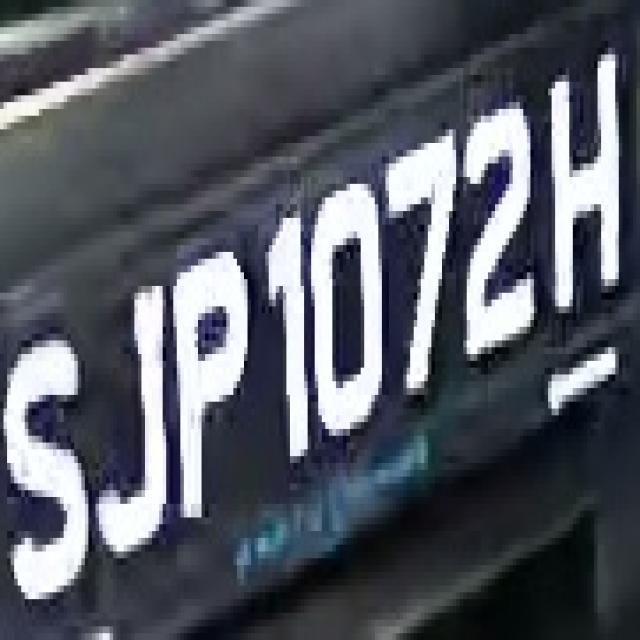0: (301, 184, 396, 442)
1: (251, 184, 318, 490)
2: (449, 102, 541, 368)
7: (375, 116, 467, 429)
H: (534, 27, 626, 327)
J: (92, 259, 173, 565)
P: (156, 252, 248, 538)
S: (11, 299, 92, 626)
